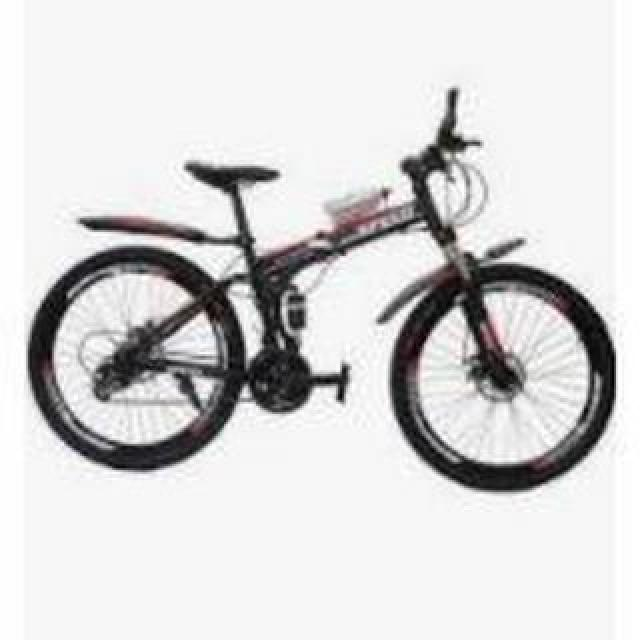Person: (26, 86, 620, 494)
